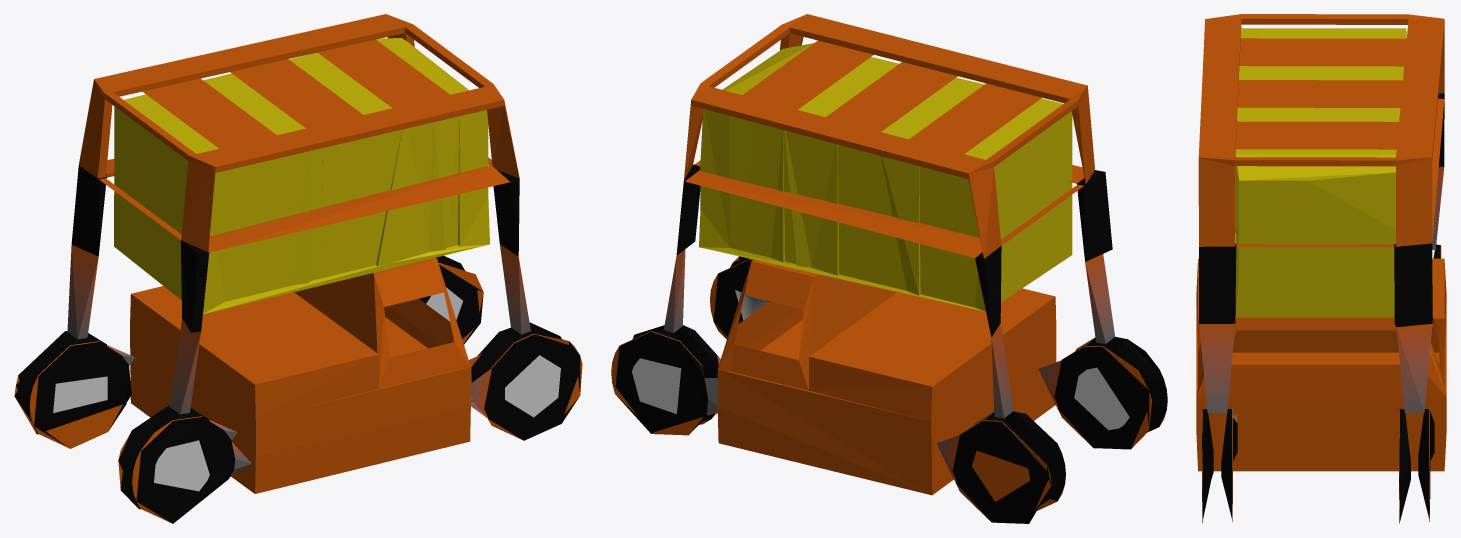
File: straddle-carrier.lod1.glb
3 views of the same model, side by side, from view 1: azimuth 30°, elevation 25°; view 2: azimuth 150°, elevation 25°; view 3: azimuth 270°, elevation 25° (orthographic).
Parts seen in each view (by area): view 1: Cube_Material_0; view 2: Cube_Material_0; view 3: Cube_Material_0.
Boxes of the visible parts, <box> form: Cube_Material_0: <box>14,14,582,523</box>; Cube_Material_0: <box>611,14,1167,523</box>; Cube_Material_0: <box>1196,14,1446,523</box>.
Bounding box in the file's own units: 18.83 × 14 × 9.15.
